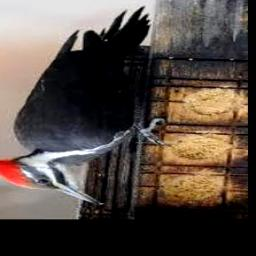Woodpecker: (0, 7, 168, 205)
